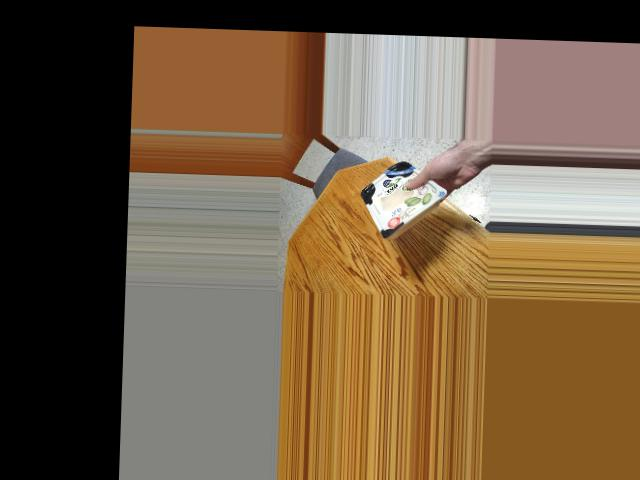cheese: (358, 168, 436, 235)
